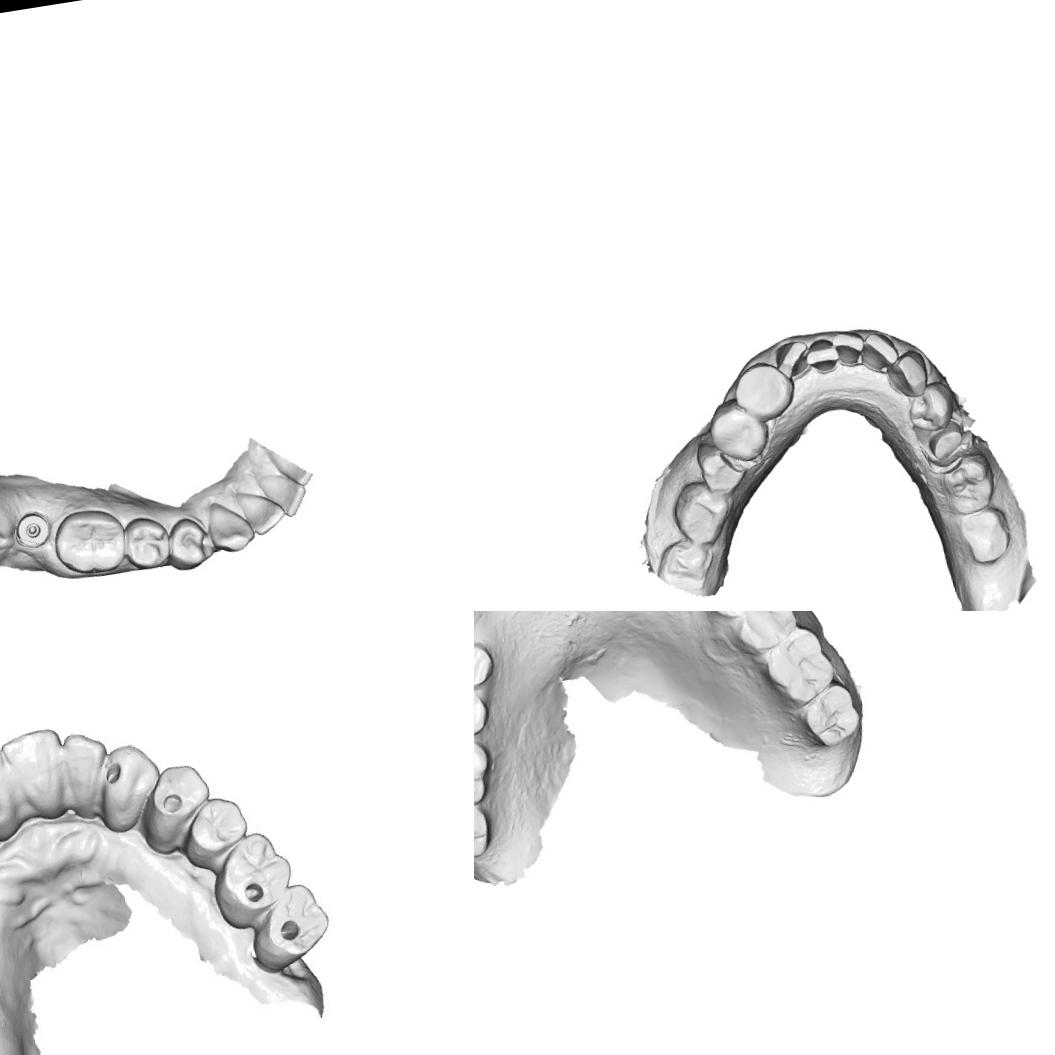canine: (90, 731, 166, 830), (728, 356, 798, 426), (204, 495, 258, 557), (884, 345, 934, 402)
crown: (923, 414, 971, 462)
implant: (12, 508, 53, 552)
incisor: (0, 724, 74, 818), (58, 727, 117, 810), (252, 466, 311, 524), (232, 484, 288, 539), (769, 327, 810, 382), (856, 328, 902, 376), (829, 324, 868, 370), (803, 333, 842, 376), (0, 743, 19, 826)
molar: (207, 826, 299, 926), (248, 879, 336, 969), (758, 619, 842, 712), (47, 503, 131, 581), (666, 474, 739, 550), (798, 678, 868, 753), (651, 532, 720, 598), (938, 448, 1002, 516), (956, 505, 1014, 568), (474, 728, 498, 814), (474, 796, 497, 865)
premolar: (138, 758, 216, 846), (702, 392, 774, 468), (181, 792, 252, 862), (728, 611, 804, 660), (117, 511, 176, 574), (689, 436, 746, 499), (162, 511, 214, 574), (903, 378, 959, 436), (474, 629, 497, 696), (474, 681, 493, 743)
